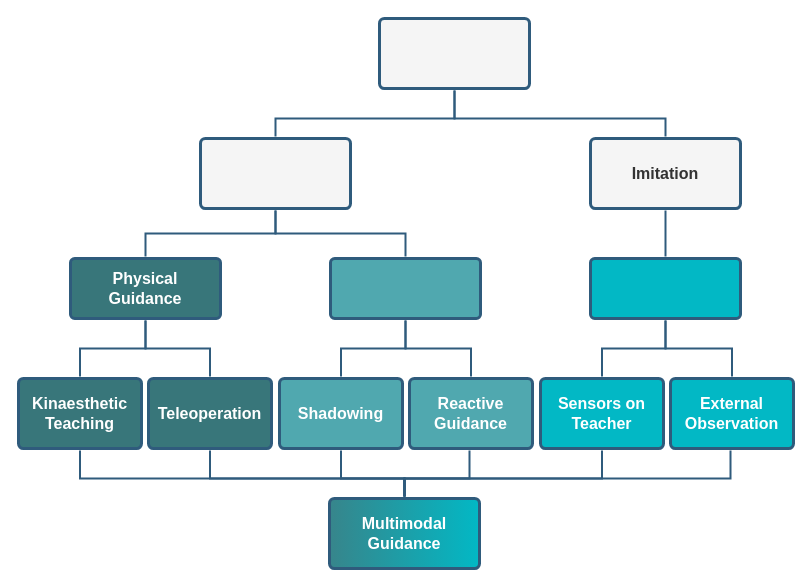
This 812x587 diagram has some shape labels left out. The centre of each missing label's shape, as x and y in pixels:
"Demonstration" goes at pixel 275 173.
"Interactive Guidance" goes at pixel 405 288.
"LfD" goes at pixel 454 53.
"Observable Guidance" goes at pixel 665 288.
